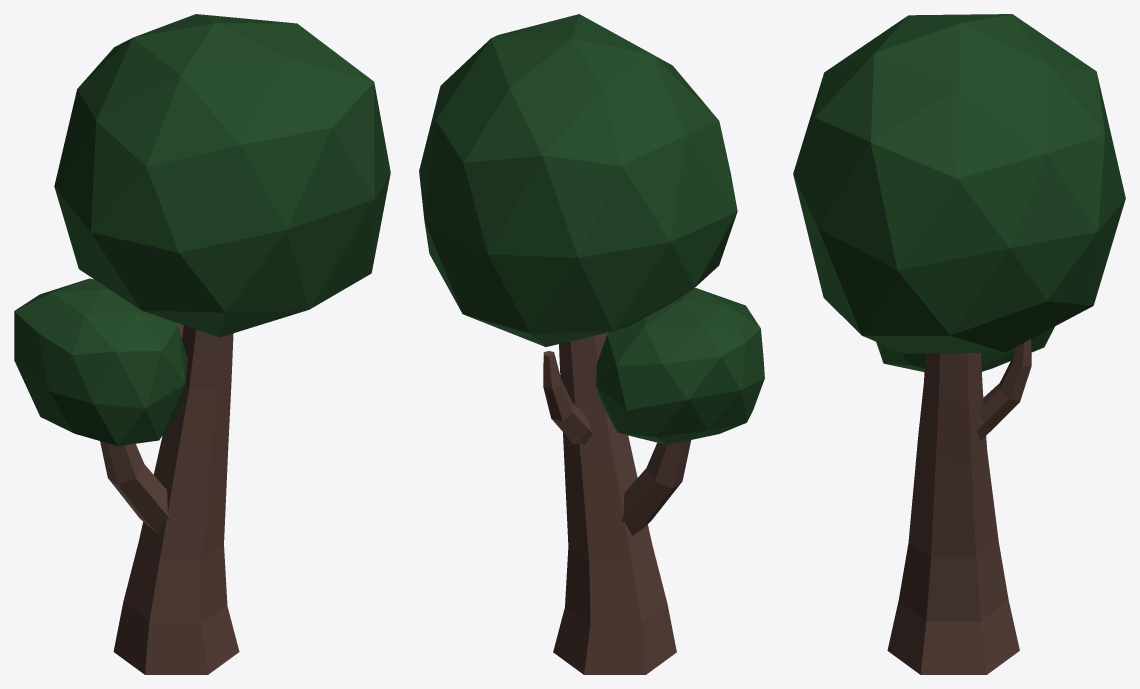
Rendered from Tree 2.fbx.
The picture shows the model from 3 angles, left to right: view 1: azimuth 30°, elevation 25°; view 2: azimuth 150°, elevation 25°; view 3: azimuth 270°, elevation 25°; orthographic projection. The views are drawn at different scales.
Visible parts, largest first — view 1: Tree 2; view 2: Tree 2; view 3: Tree 2.
Boxes of the visible parts, <box> form: Tree 2: <box>14,14,390,674</box>; Tree 2: <box>419,14,764,674</box>; Tree 2: <box>793,14,1125,674</box>.
Size of the model in its own units: 3.76 by 6.65 by 3.09.
